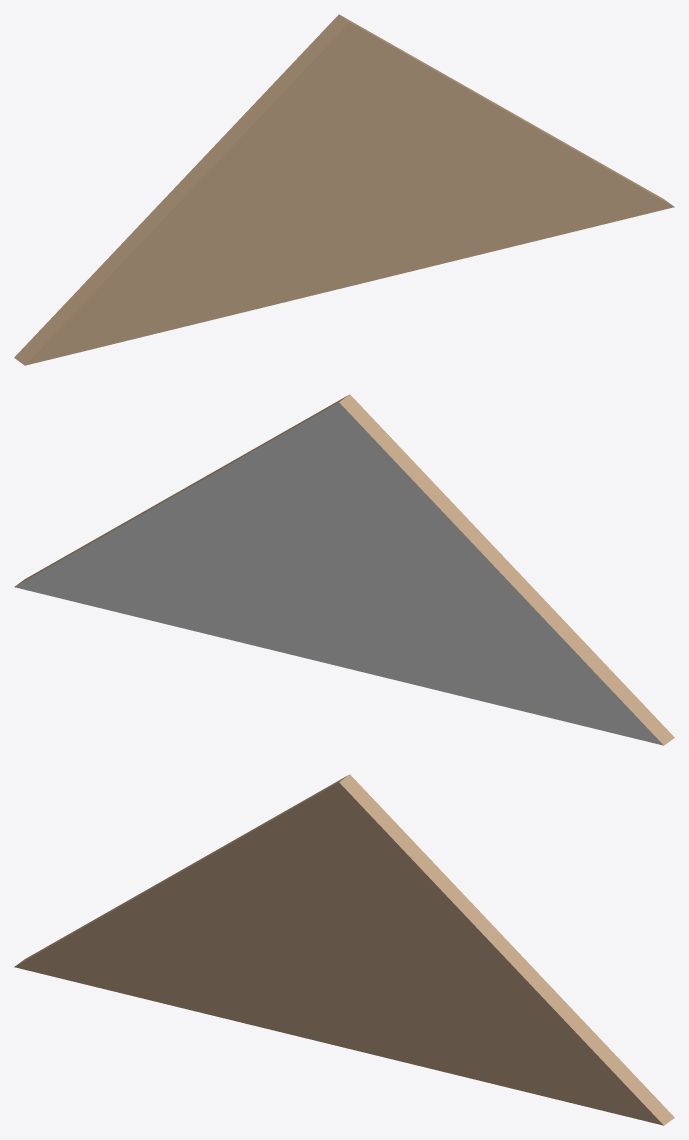
File: Wall1_C2_16.fbx
3 renders of one model, top to bottom at view 1: azimuth 30°, elevation 25°; view 2: azimuth 150°, elevation 25°; view 3: azimuth 330°, elevation 25°, orthographic.
Visible parts, largest first — view 1: Wall1_C2_16; view 2: Wall1_C2_16; view 3: Wall1_C2_16.
Part boxes in pixels (x1,y1,x2,y2): Wall1_C2_16: (14,14,674,365); Wall1_C2_16: (14,394,674,745); Wall1_C2_16: (14,774,674,1125).
Size of the model in its own units: 515 by 200 by 15.
